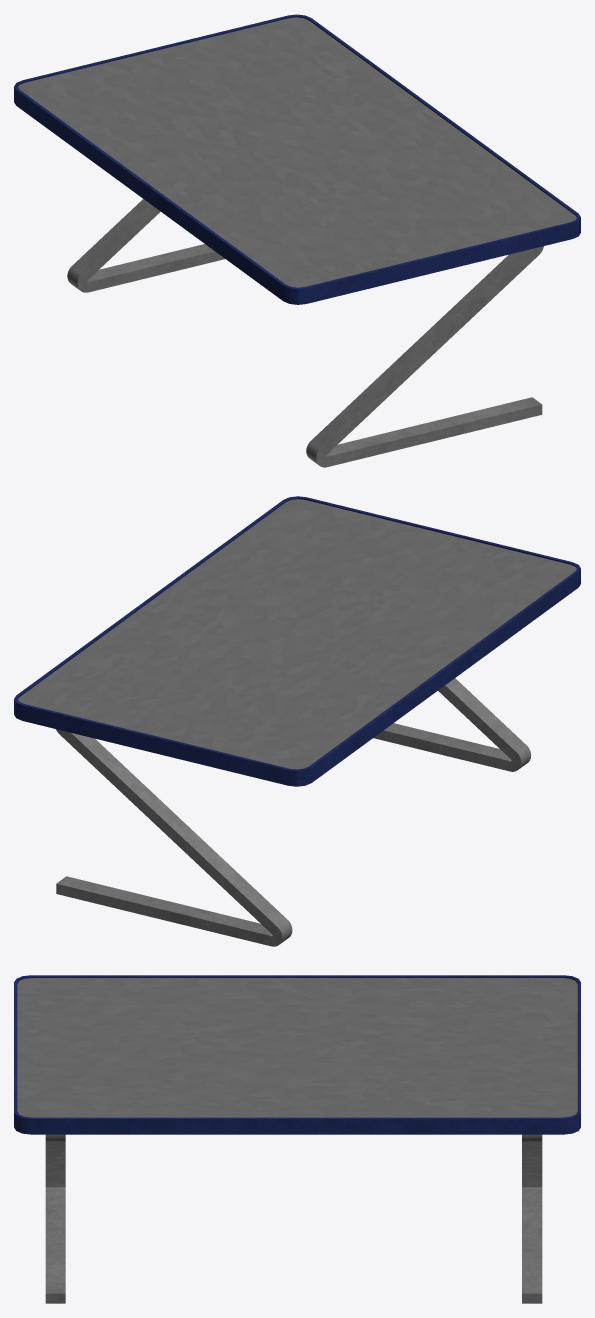
The model's file is lobby_table.fbx.
The picture shows the model from 3 angles, top to bottom: view 1: azimuth 30°, elevation 25°; view 2: azimuth 150°, elevation 25°; view 3: azimuth 270°, elevation 25°; orthographic projection.
Visible parts, largest first — view 1: bake; view 2: bake; view 3: bake.
Part boxes in pixels (<box>): bake: <box>14,14,580,467</box>; bake: <box>14,496,580,946</box>; bake: <box>14,975,580,1303</box>.
Size of the model in its own units: 120 by 77.44 by 200.
Materials: 1 (1 with a texture image).
